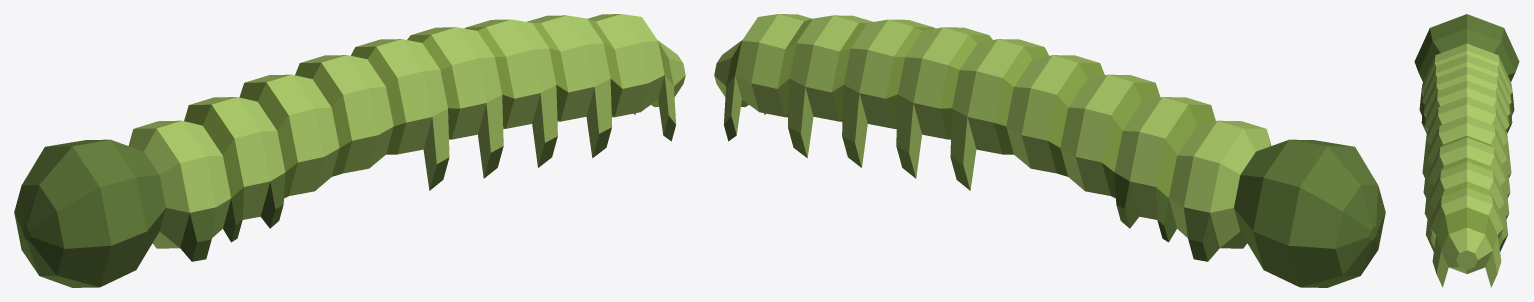
Rendered from NEW_RECOVERY_032_LOD2.glb.
3 renders of one model, left to right at view 1: azimuth 30°, elevation 25°; view 2: azimuth 150°, elevation 25°; view 3: azimuth 270°, elevation 25°, orthographic. The views are drawn at different scales.
Visible parts, largest first — view 1: Caterpillar; view 2: Caterpillar; view 3: Caterpillar.
Part boxes in pixels (x1,y1,x2,y2): Caterpillar: [14, 14, 685, 287]; Caterpillar: [714, 14, 1385, 287]; Caterpillar: [1414, 14, 1519, 287].
Size of the model in its own units: 2.55 by 0.6306 by 0.53.
